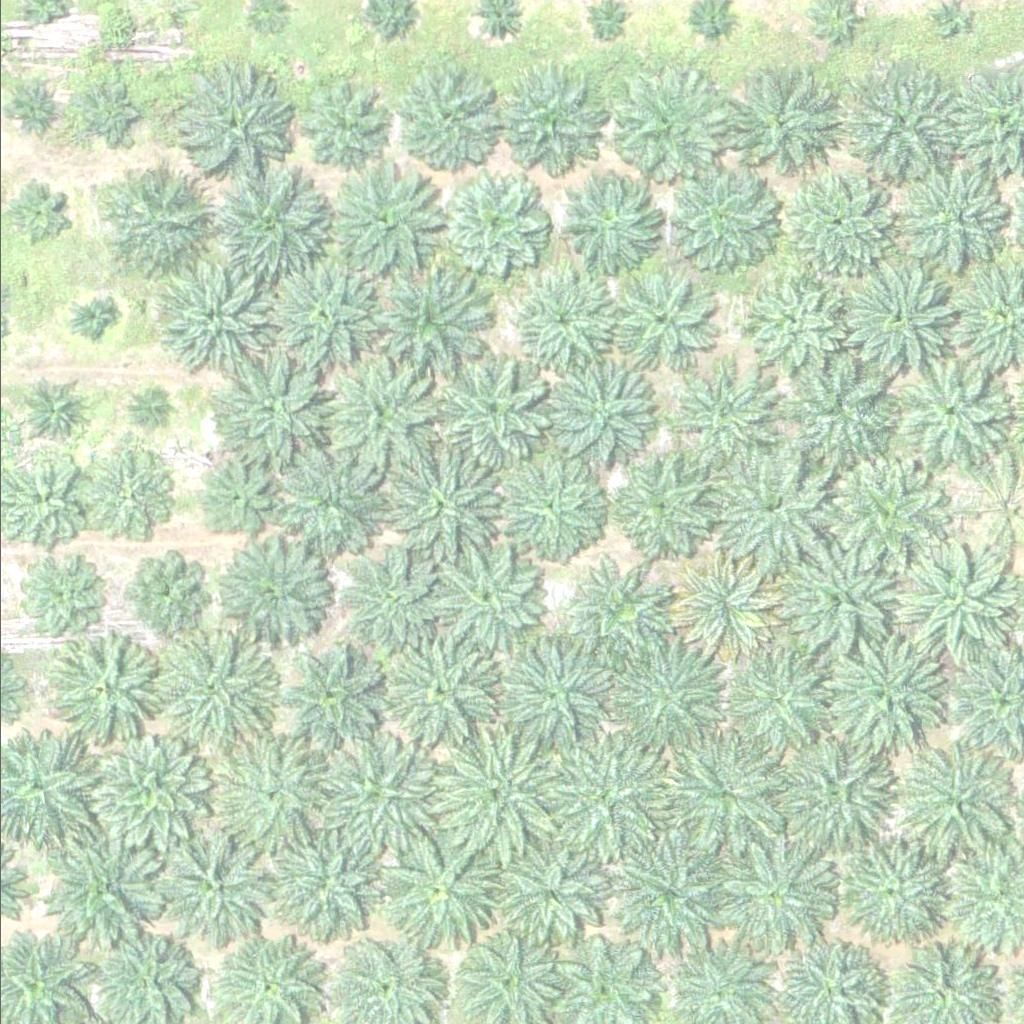Kelapa_Sawit: (363, 263, 489, 388), (169, 61, 295, 186), (658, 730, 784, 855), (539, 736, 665, 861), (437, 730, 562, 855), (267, 258, 381, 371), (322, 168, 436, 281), (833, 841, 947, 954), (899, 747, 1013, 860), (718, 833, 832, 946), (437, 166, 551, 279), (605, 70, 719, 183), (380, 838, 493, 951), (275, 828, 388, 941), (157, 825, 270, 938), (51, 628, 164, 741), (211, 531, 324, 644), (383, 449, 496, 562), (282, 435, 395, 548), (159, 256, 272, 369), (217, 169, 330, 282), (102, 160, 215, 273), (494, 838, 607, 951), (613, 840, 726, 953), (775, 733, 888, 846), (830, 634, 943, 747), (845, 68, 958, 181), (730, 68, 843, 181), (782, 351, 895, 464), (890, 359, 1003, 472), (829, 455, 942, 568), (664, 549, 777, 662), (431, 546, 544, 659), (711, 451, 824, 564), (606, 447, 719, 560), (661, 160, 774, 273), (221, 349, 335, 461), (486, 63, 600, 175), (53, 834, 166, 946), (326, 737, 439, 849), (217, 735, 330, 847), (98, 733, 211, 845), (161, 631, 274, 743), (324, 360, 437, 472), (720, 646, 833, 758), (611, 636, 724, 748), (500, 636, 613, 748), (388, 635, 501, 747), (844, 263, 957, 375), (780, 542, 893, 654), (902, 543, 1015, 655), (666, 359, 779, 471), (434, 355, 547, 467), (276, 645, 377, 745), (790, 178, 891, 278), (904, 174, 1005, 274), (736, 275, 837, 375), (498, 457, 599, 557), (553, 364, 654, 464), (604, 272, 705, 372), (401, 69, 502, 169), (512, 273, 612, 373), (558, 177, 658, 277), (86, 449, 174, 537), (297, 79, 385, 167), (573, 567, 662, 654), (342, 554, 430, 641), (128, 557, 204, 632), (13, 559, 89, 634), (195, 455, 271, 530), (75, 82, 138, 144), (6, 186, 69, 248), (9, 88, 60, 138), (31, 386, 81, 436), (132, 394, 170, 432), (70, 299, 108, 336)
